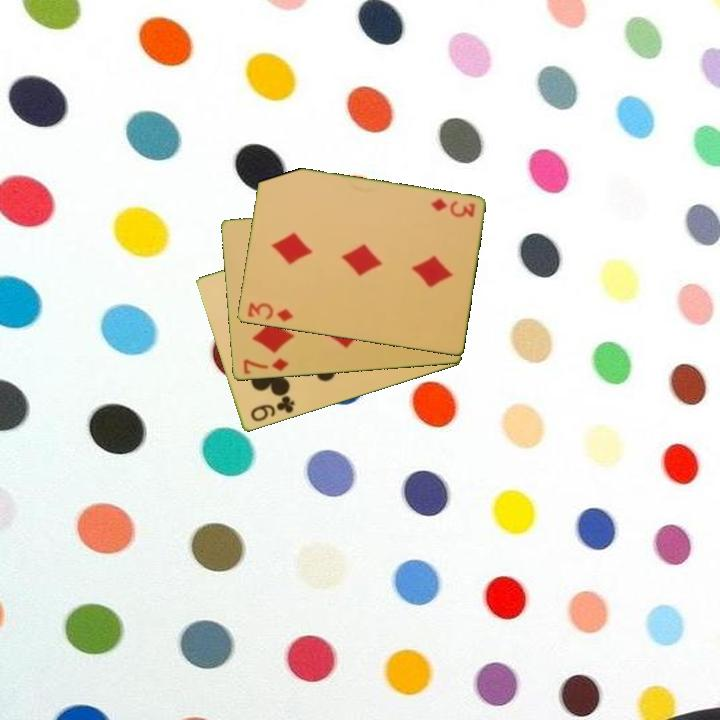3d: (244, 299, 295, 325), (427, 195, 478, 221)
7d: (239, 355, 291, 377)
9c: (247, 392, 297, 425)
